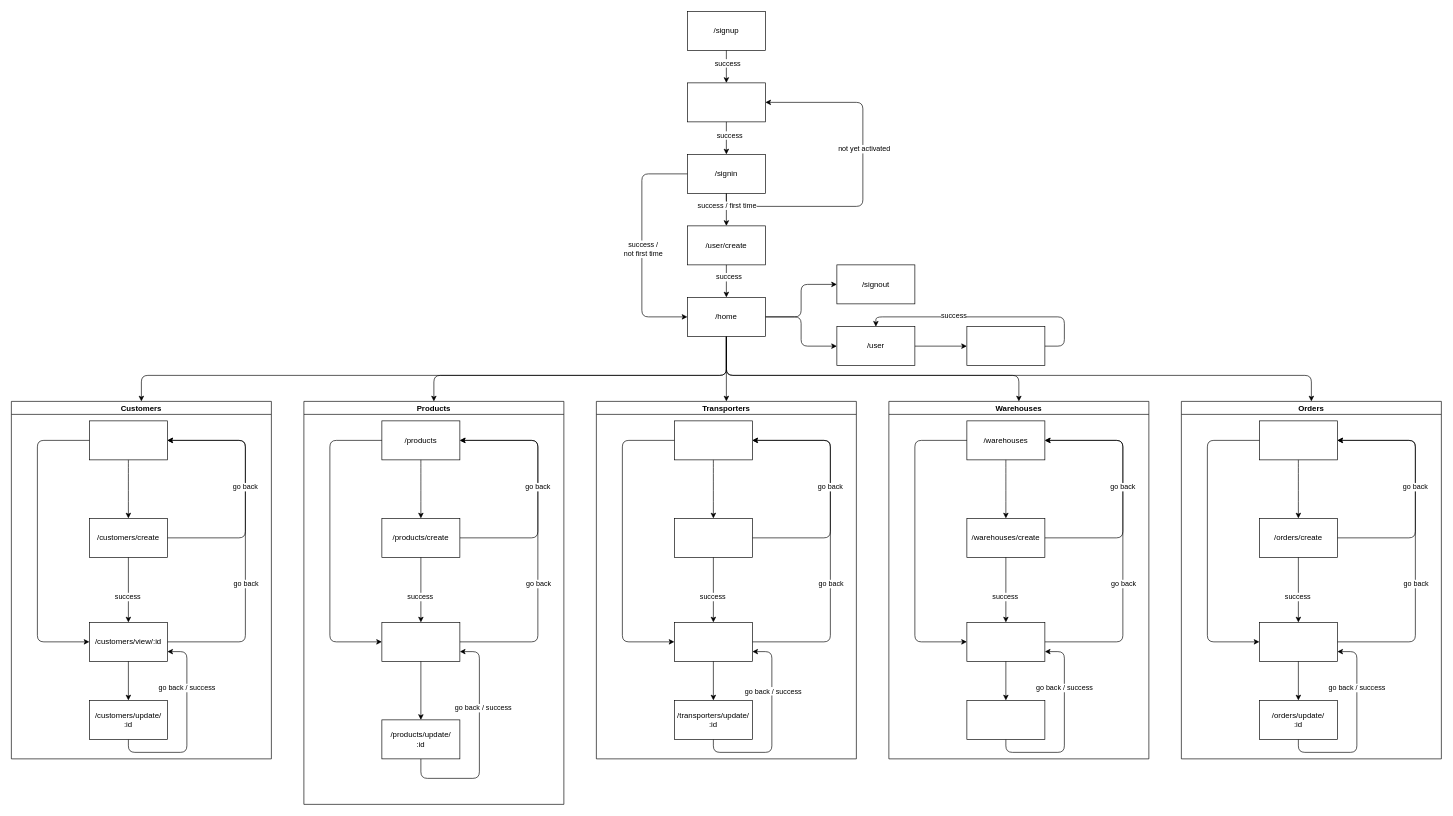
This 1453x816 diagram has some shape labels left out. The shapes that lost their labels are listed below. From the top down, each one's box as (x1, y1, x2, y2) in pixels, then its label:
(687, 82, 765, 122): /confirmsignup
(966, 326, 1045, 366): /user/update
(89, 420, 167, 460): /customers
(674, 420, 752, 460): /transporters
(1259, 420, 1337, 460): /orders
(674, 518, 752, 557): /transporters/create
(381, 622, 460, 661): /products/view/:id
(674, 622, 752, 661): /transporters/view/:id
(966, 622, 1045, 661): /warehouses/view/:id
(1259, 622, 1337, 661): /orders/view/:id
(966, 700, 1045, 739): /warehouses/update/ :id
